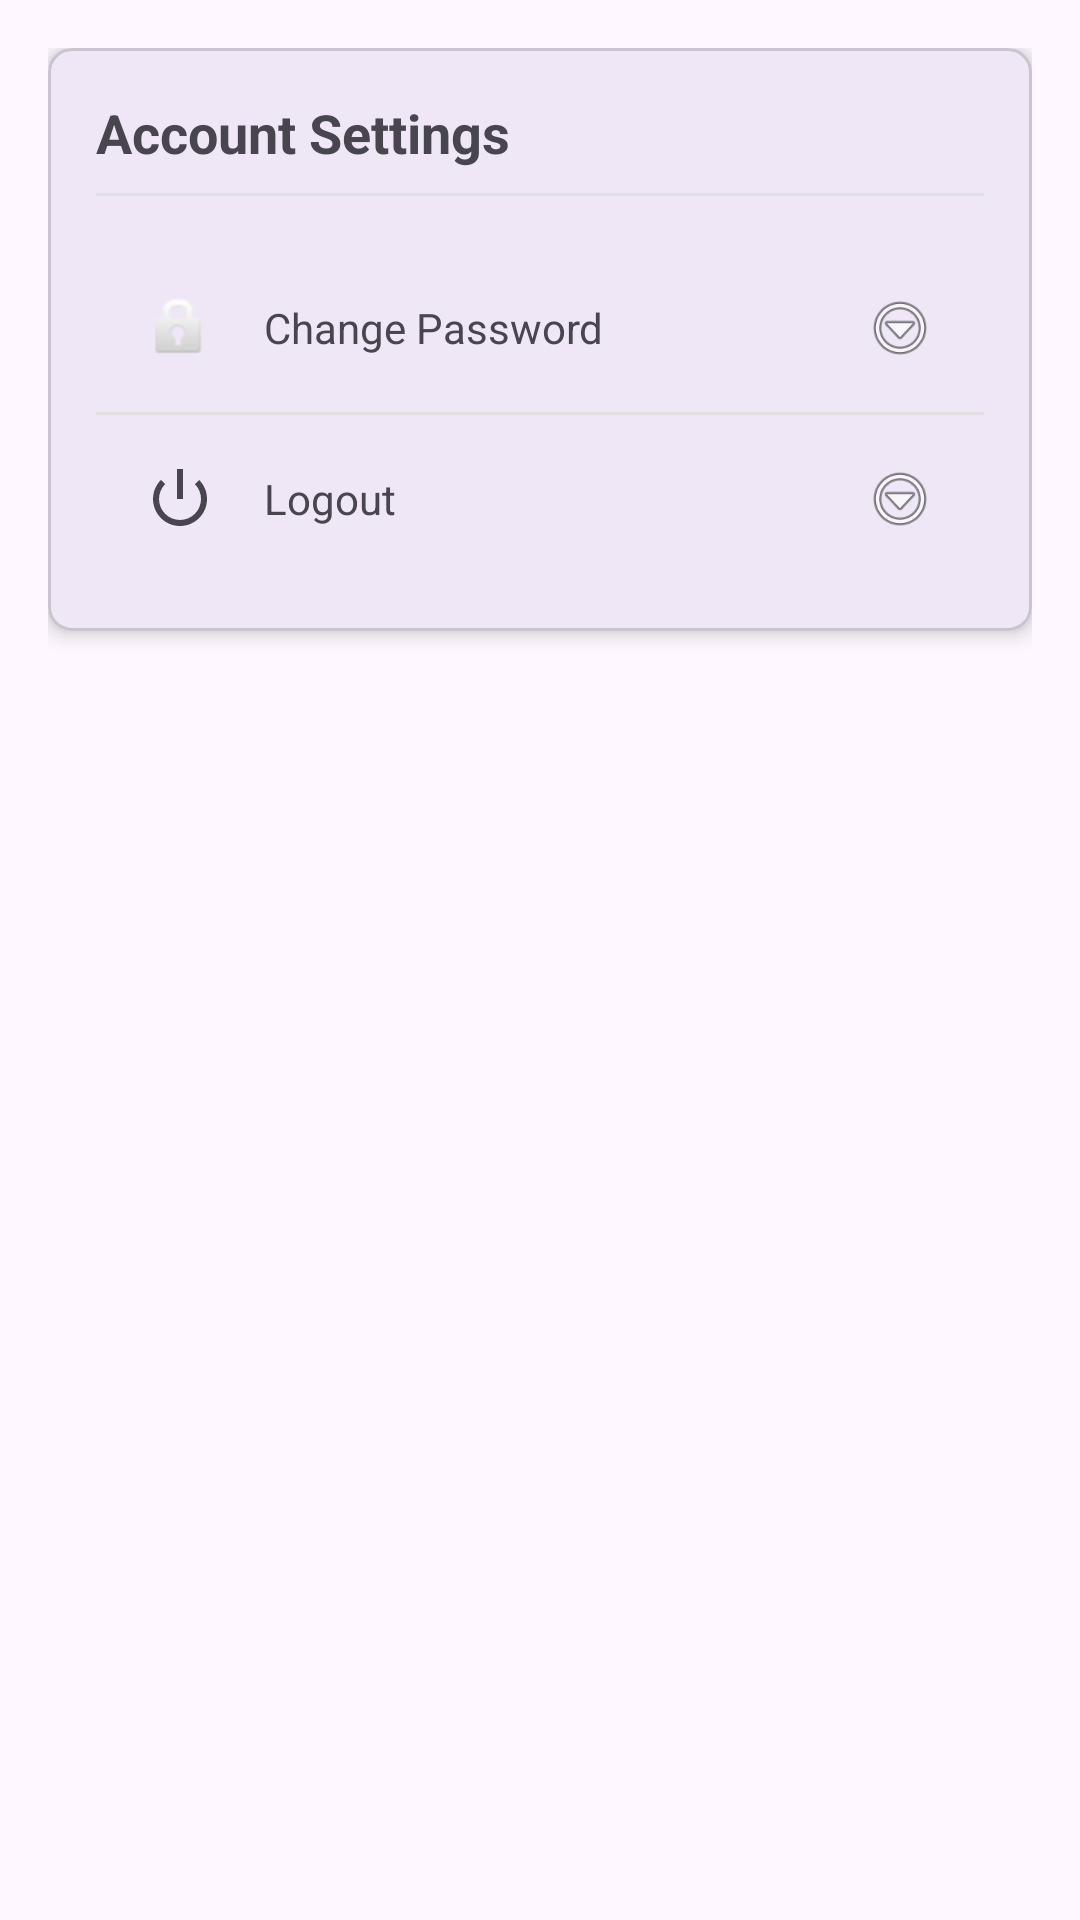

Icons on this 1080px×1920px Android screen, each with the point to tap as [x,y]:
lock power off: [180,497]
more: [900,328], [900,499]
